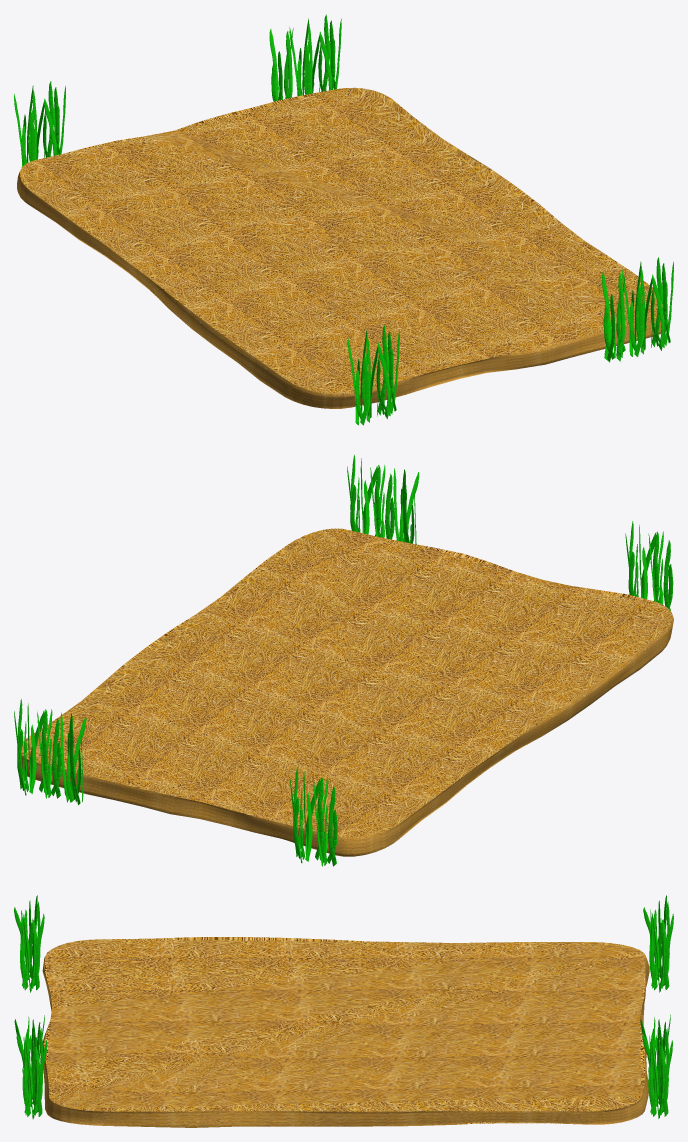
Rendered from islaDer.glb.
3 views of the same model, one above another, from view 1: azimuth 30°, elevation 25°; view 2: azimuth 150°, elevation 25°; view 3: azimuth 270°, elevation 25° (orthographic). The views are drawn at different scales.
Visible parts, largest first — view 1: Cube.001, Cone, Cone.006, Cone.002, Cone.007, Cone.001, Cone.003, Cone.009, Cone.004, Cone.008, Cone.005; view 2: Cube.001, Cone.008, Cone.004, Cone.005, Cone.003, Cone.009, Cone.001, Cone.007, Cone, Cone.002, Cone.006; view 3: Cube.001, Cone.002, Cone.003, Cone.009, Cone.006, Cone.008, Cone.004, Cone.001, Cone.007, Cone.005, Cone.
Part boxes in pixels (box(x1,y1,x2,y2)): Cube.001: box(17, 87, 667, 408); Cone: box(602, 269, 625, 362); Cone.006: box(376, 325, 399, 418); Cone.002: box(650, 257, 673, 350); Cone.007: box(347, 329, 378, 425); Cone.001: box(622, 261, 652, 356); Cone.003: box(318, 14, 341, 92); Cone.009: box(43, 81, 65, 157); Cone.004: box(289, 18, 319, 96); Cone.008: box(14, 85, 44, 167); Cone.005: box(269, 28, 293, 101); Cube.001: box(21, 528, 673, 856); Cone.008: box(313, 777, 337, 866); Cone.004: box(37, 709, 61, 798); Cone.005: box(60, 712, 86, 805); Cone.003: box(14, 698, 44, 795); Cone.009: box(290, 766, 320, 862); Cone.001: box(370, 464, 394, 539); Cone.007: box(648, 531, 673, 610); Cone: box(393, 468, 419, 544); Cone.002: box(347, 454, 377, 534); Cone.006: box(625, 521, 656, 599); Cube.001: box(42, 937, 649, 1127); Cone.002: box(23, 1036, 47, 1119); Cone.003: box(649, 1036, 672, 1118); Cone.009: box(650, 909, 673, 992); Cone.006: box(21, 909, 44, 992); Cone.008: box(643, 895, 669, 979); Cone.004: box(642, 1022, 668, 1106); Cone.001: box(16, 1022, 43, 1106); Cone.007: box(14, 895, 40, 979); Cone.005: box(640, 1014, 670, 1092); Cone: box(14, 1015, 44, 1093).
Size of the model in its own units: 10.25 by 2.29 by 16.39.
2 materials, 1 textured.
